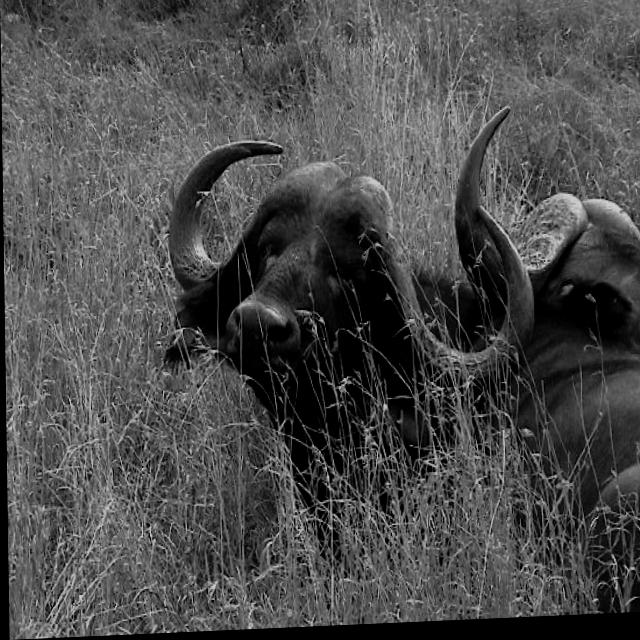Buffalo: (157, 121, 640, 630)
